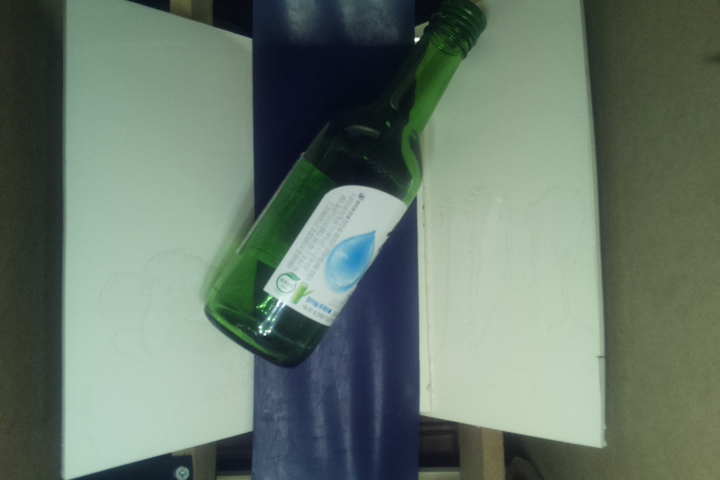soju: (208, 1, 492, 370)
